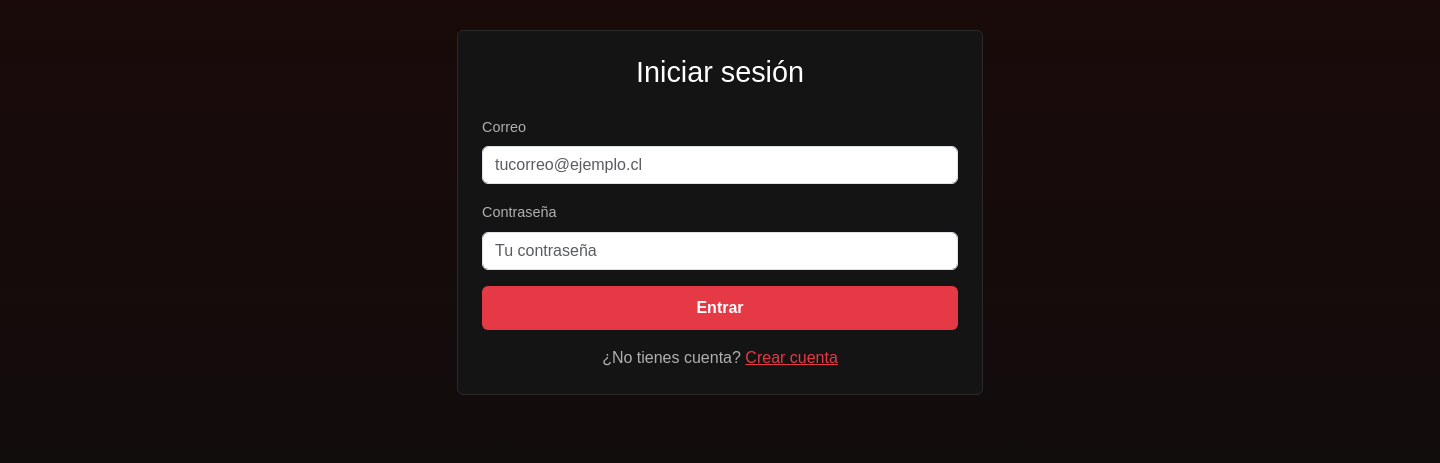
Test: Login (página) › con los campos vacíos muestra los errores de validación
The image size is (1440, 463).
Click the button "Entrar": (720, 308) [482,286,958,330]
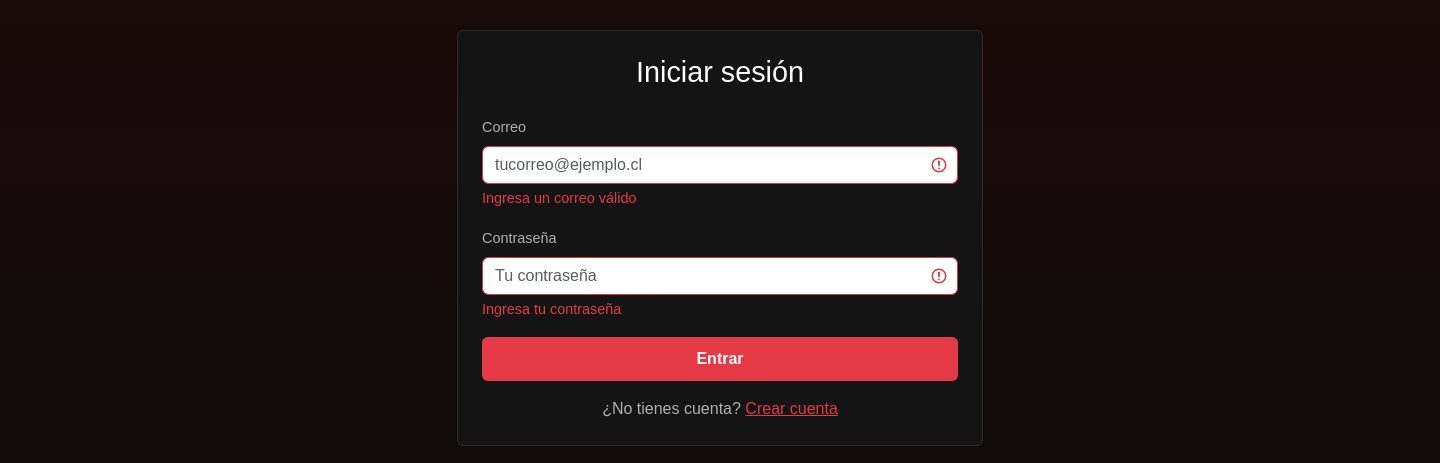
Expected: the text "Ingresa un correo válido" is shown, [482,190,636,206]
Expected: the text "Ingresa tu contraseña" is shown, [482,301,621,317]
